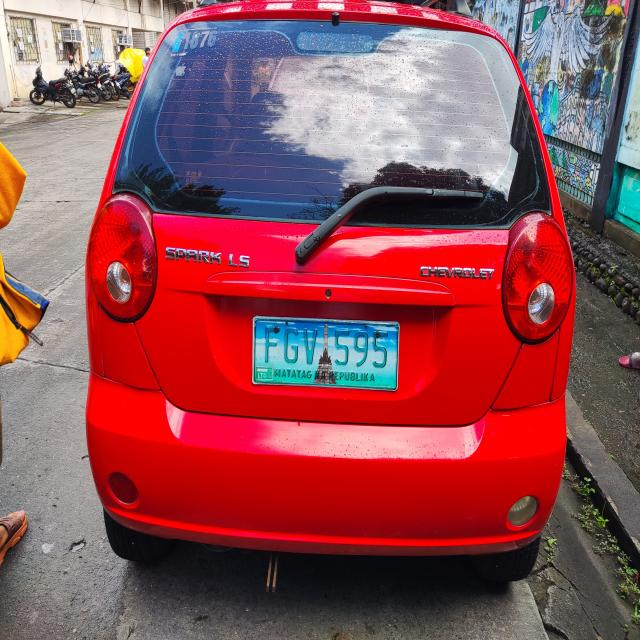plate: (249, 311, 403, 395)
